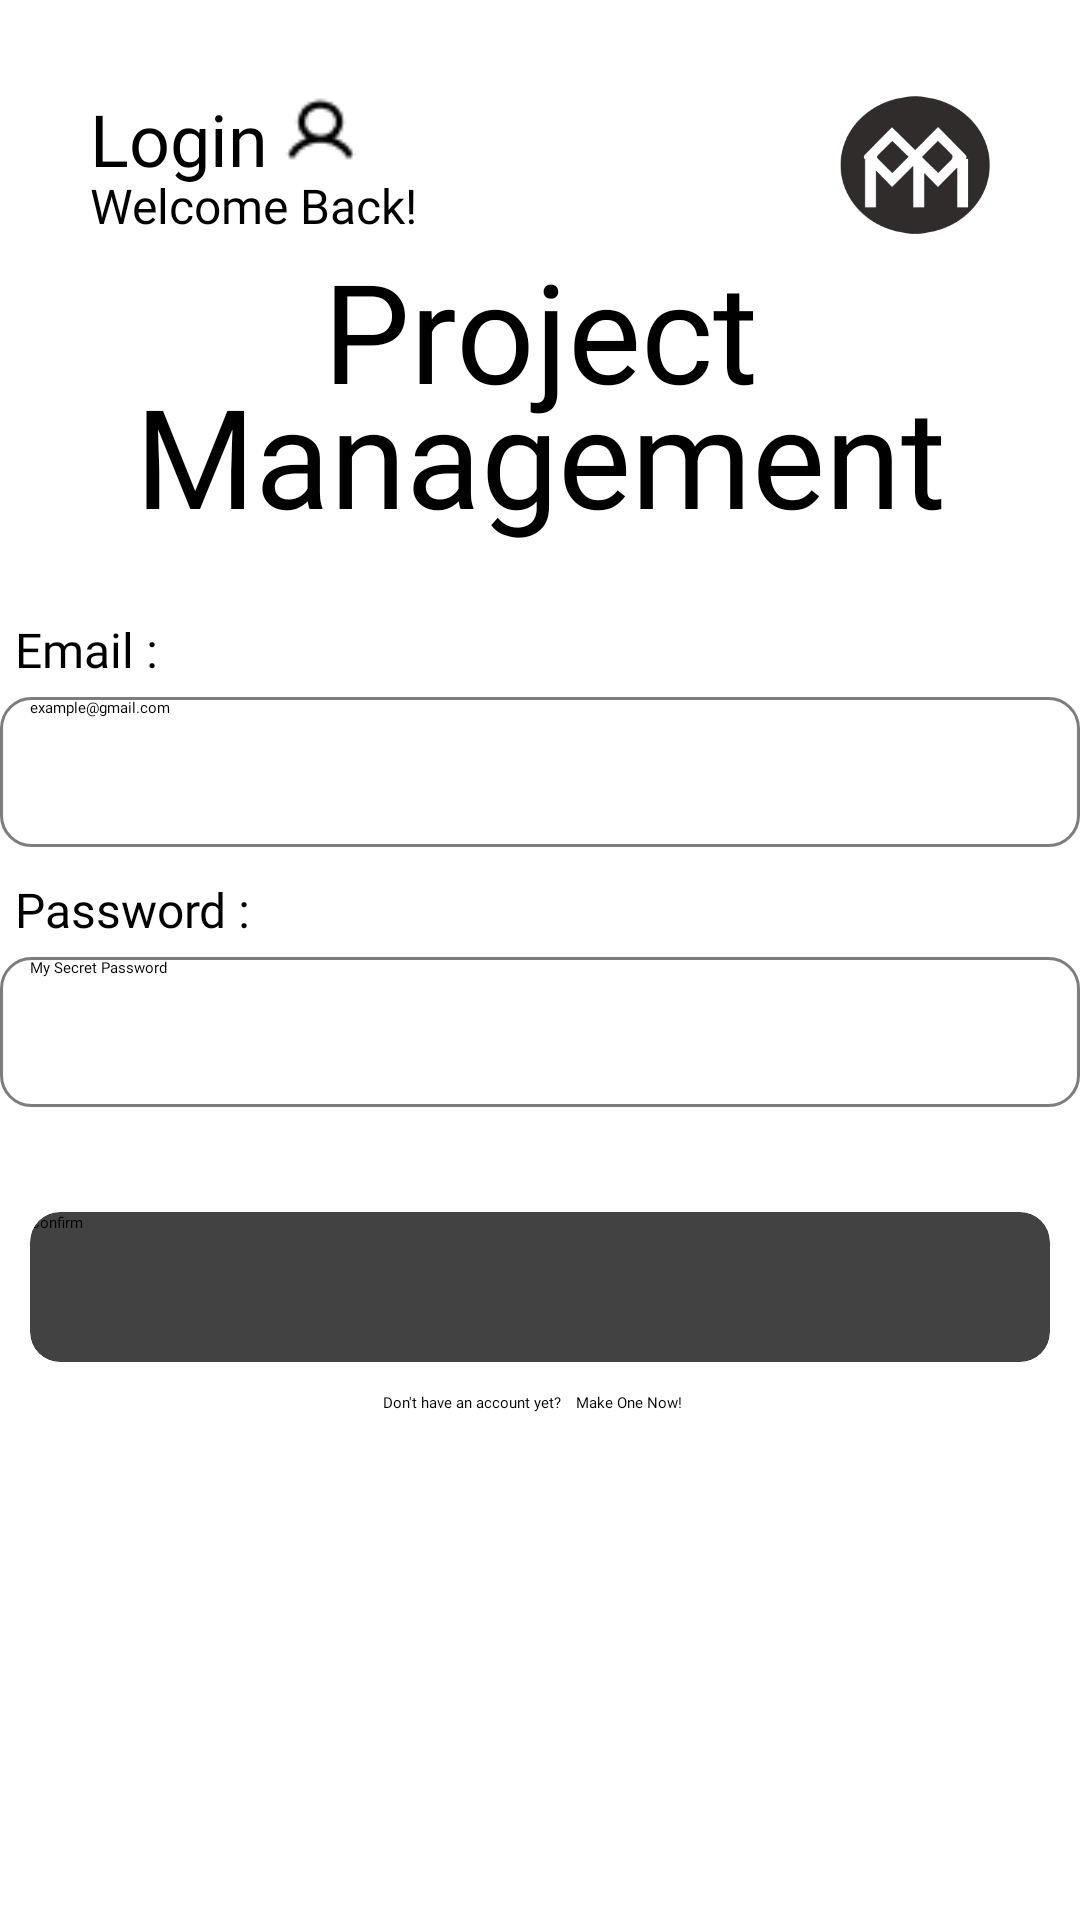

Screen size 1080 x 1920. Icon name, then its box in pixels as (x1, y1, x2, y2):
User Icon: (287, 99, 354, 160)
